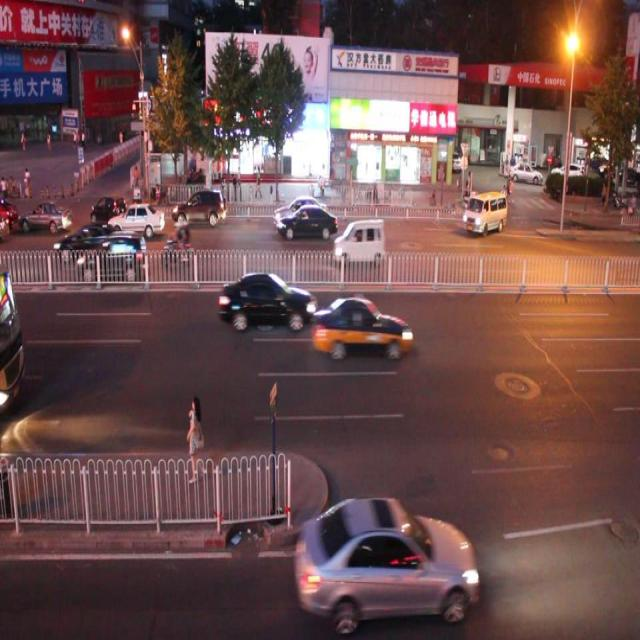car: (294, 490, 476, 634), (311, 293, 411, 365), (216, 268, 317, 335), (76, 230, 150, 282), (53, 221, 124, 265), (332, 216, 385, 266), (276, 204, 338, 243), (170, 185, 225, 226), (273, 192, 326, 233), (108, 202, 166, 237), (20, 198, 73, 235), (91, 195, 130, 228)
truck: (461, 189, 508, 233)
